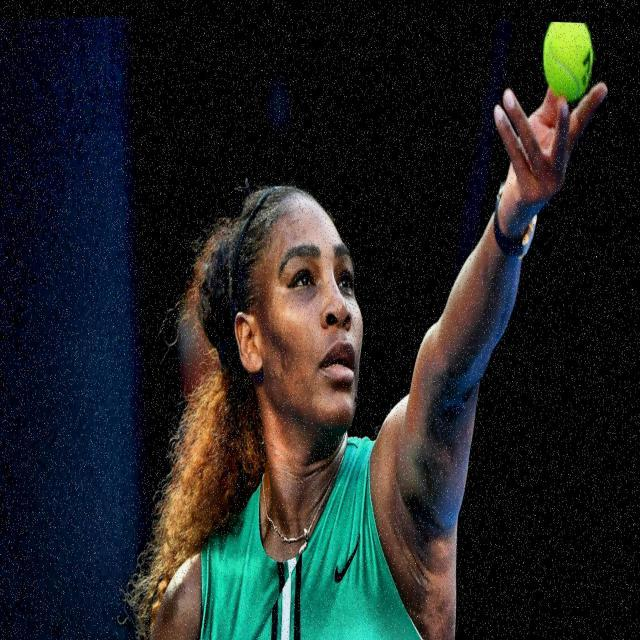tennis-ball: (542, 17, 597, 104)
